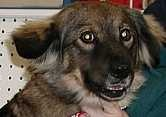dog: (30, 0, 129, 106)
